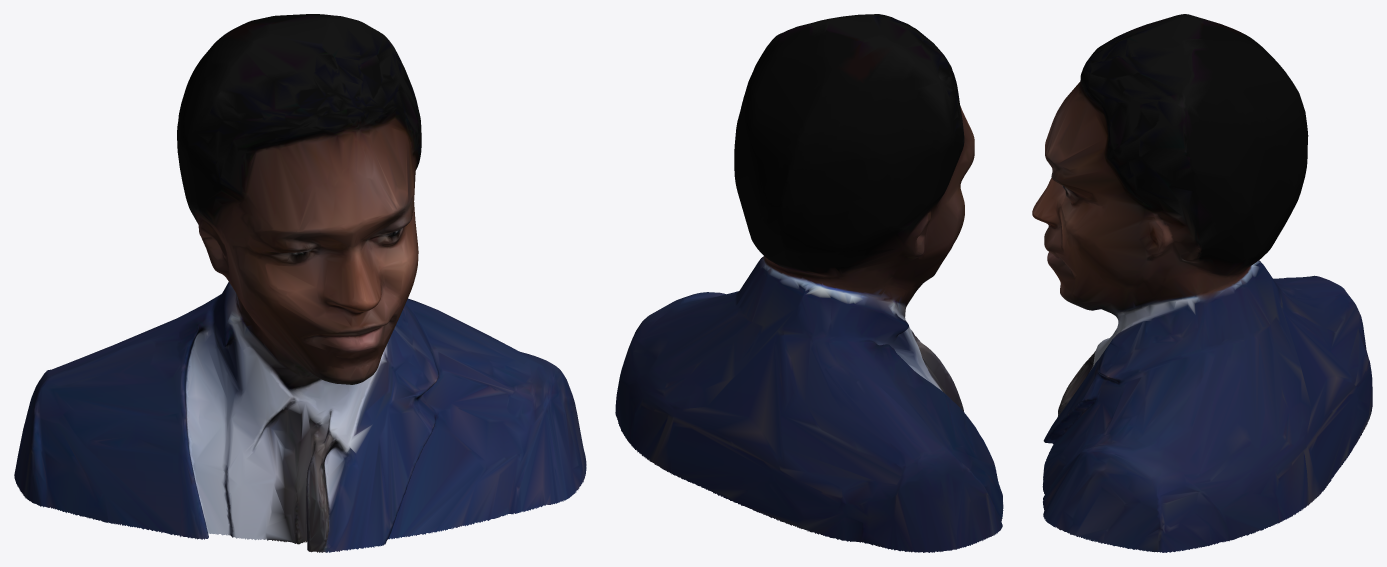
The model's file is Mr_Owusu.glb.
3 renders of one model, left to right at view 1: azimuth 30°, elevation 25°; view 2: azimuth 150°, elevation 25°; view 3: azimuth 270°, elevation 25°, orthographic. The views are drawn at different scales.
Parts seen in each view (by area): view 1: Mr.Owusu.002; view 2: Mr.Owusu.002; view 3: Mr.Owusu.002.
Boxes of the visible parts, box(x1,y1,x2,y2) form: Mr.Owusu.002: box(14, 14, 586, 552); Mr.Owusu.002: box(615, 14, 1003, 552); Mr.Owusu.002: box(1032, 14, 1372, 552).
Bounding box in the file's own units: 9.6 × 8.93 × 6.69.
